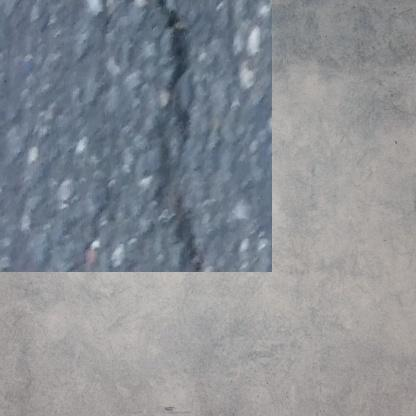Cracks: (127, 0, 193, 251)
